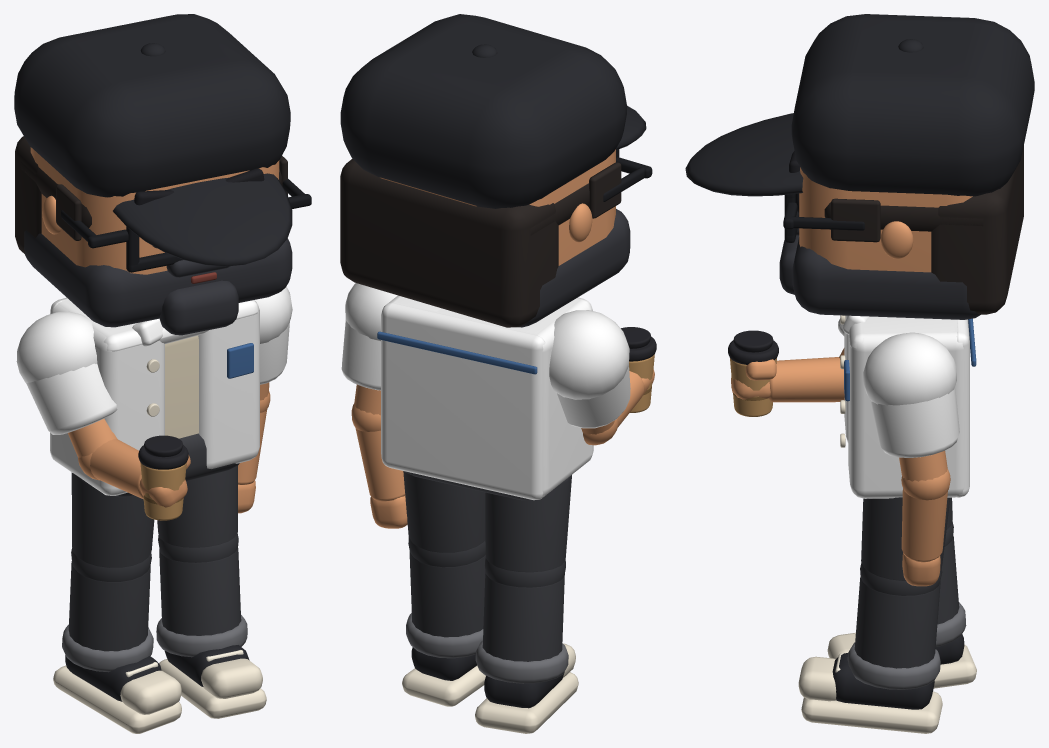
Rendered from c01_overcooked.glb.
3 renders of one model, left to right at view 1: azimuth 30°, elevation 25°; view 2: azimuth 150°, elevation 25°; view 3: azimuth 270°, elevation 25°, orthographic.
Parts seen in each view (by area): view 1: hat_A01_cap, top_T01_overshirt, beard_B02, top_T01_sleeve_R, pants_P01_shin_L, pants_P01_shin_R, pants_P01_thigh_R, head_H01, shoes_S01_sole_R, pants_P01_thigh_L, hair_R04_cap, shoes_S01_sole_L (+16 smaller); view 2: hat_A01_cap, top_T01_overshirt, hair_R04_cap, top_T01_sleeve_R, pants_P01_shin_R, pants_P01_shin_L, pants_P01_thigh_R, pants_P01_thigh_L, beard_B02, top_T01_sleeve_L, head_H01, shoes_S01_sole_R (+13 smaller); view 3: hat_A01_cap, hair_R04_cap, top_T01_overshirt, top_T01_sleeve_L, beard_B02, head_H01, pants_P01_shin_L, shoes_S01_sole_L, arm_L_lower, pants_P01_thigh_L, arm_R_lower, shoes_S01_upper_L (+10 smaller).
Part boxes in pixels (x1,y1,x2,y2): hat_A01_cap: [14, 14, 292, 266]; top_T01_overshirt: [50, 297, 259, 495]; beard_B02: [24, 230, 292, 335]; top_T01_sleeve_R: [16, 311, 117, 434]; pants_P01_shin_L: [158, 533, 241, 635]; pants_P01_shin_R: [68, 547, 151, 651]; pants_P01_thigh_R: [71, 472, 154, 567]; head_H01: [30, 147, 279, 274]; shoes_S01_sole_R: [53, 665, 181, 733]; pants_P01_thigh_L: [157, 465, 237, 547]; hair_R04_cap: [15, 136, 287, 254]; shoes_S01_sole_L: [159, 658, 266, 718]; hat_A01_cap: [340, 14, 646, 208]; top_T01_overshirt: [381, 295, 593, 500]; hair_R04_cap: [340, 159, 621, 327]; top_T01_sleeve_R: [549, 310, 630, 428]; pants_P01_shin_R: [482, 558, 565, 661]; pants_P01_shin_L: [408, 537, 485, 637]; pants_P01_thigh_R: [485, 475, 571, 572]; pants_P01_thigh_L: [403, 471, 485, 552]; beard_B02: [517, 209, 630, 327]; top_T01_sleeve_L: [341, 283, 397, 390]; head_H01: [380, 149, 615, 265]; shoes_S01_sole_R: [475, 643, 578, 733]; hat_A01_cap: [685, 14, 1034, 196]; hair_R04_cap: [824, 145, 1023, 314]; top_T01_overshirt: [843, 315, 969, 498]; top_T01_sleeve_L: [863, 332, 959, 457]; beard_B02: [779, 228, 980, 319]; head_H01: [799, 167, 972, 272]; pants_P01_shin_L: [854, 562, 942, 668]; shoes_S01_sole_L: [798, 656, 942, 733]; arm_L_lower: [901, 469, 950, 562]; pants_P01_thigh_L: [861, 497, 950, 580]; arm_R_lower: [769, 357, 844, 402]; shoes_S01_upper_L: [832, 653, 934, 709].
Bounding box in the file's own units: 0.7594 × 1.78 × 0.8467.
